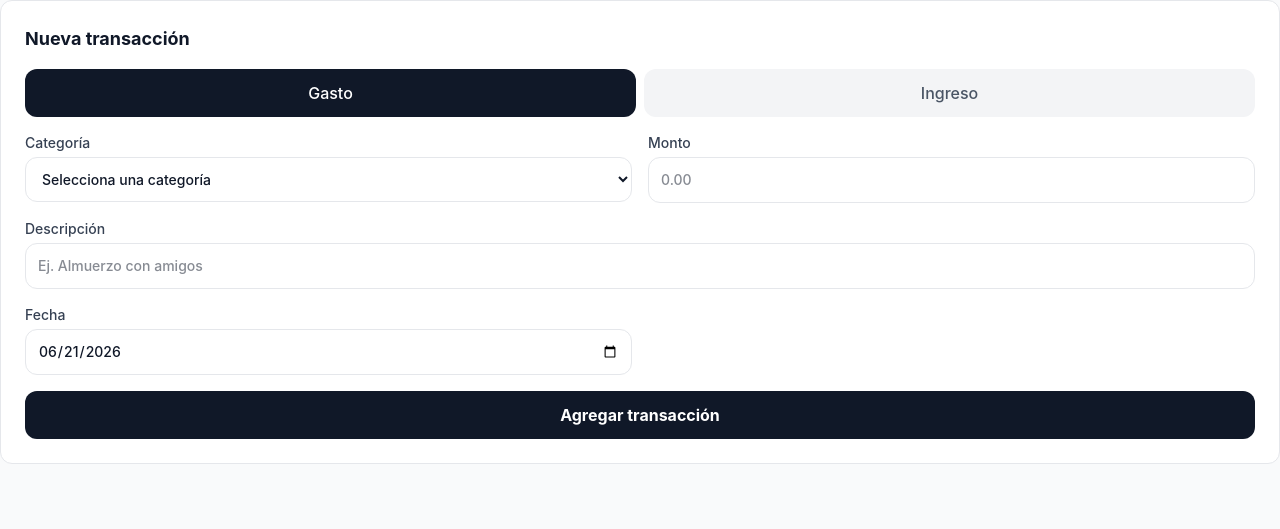
FormularioTransaccion › muestra un error y no guarda cuando la descripción está vacía
Click the button "Agregar transacción". click: (640, 415)
box: left=25, top=391, right=1255, bottom=439
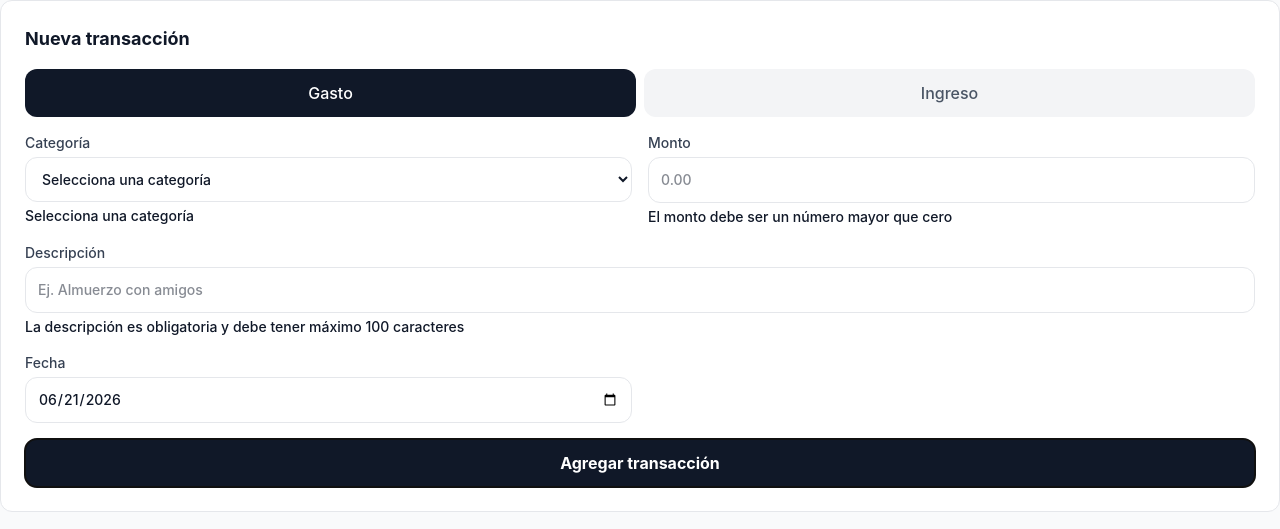
Check: the text "La descripción es obligatoria" is shown, box left=25, top=318, right=464, bottom=335
